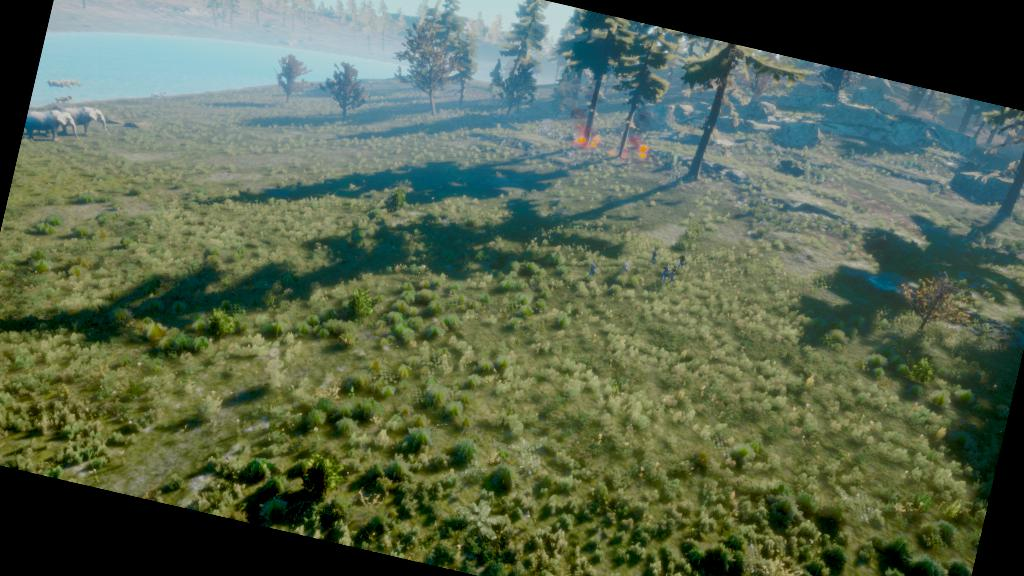Fire: (606, 130, 654, 169), (566, 119, 606, 154)
elephant: (22, 102, 86, 149), (56, 100, 114, 140)
human: (584, 258, 600, 280), (656, 261, 670, 285), (647, 244, 661, 267), (666, 263, 680, 285), (618, 257, 632, 276), (676, 252, 690, 270)
lion: (50, 88, 74, 108)
rhinoceros: (58, 74, 83, 91), (46, 75, 70, 92)
zebra: (144, 84, 169, 104)
